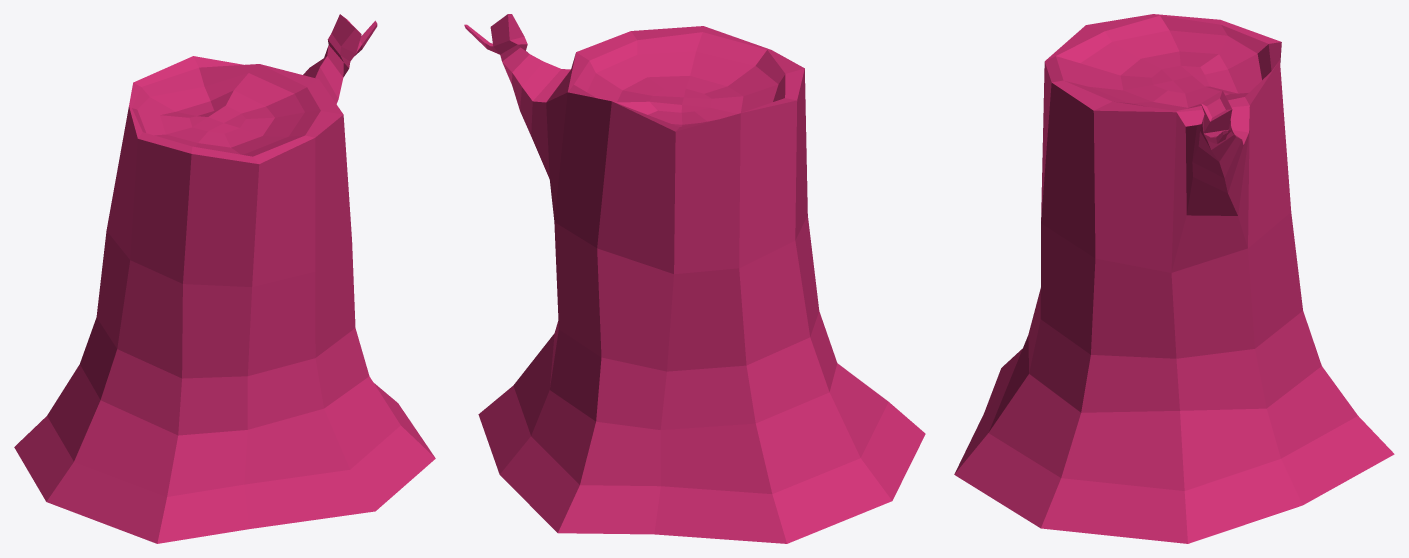
The model's file is stump_001.fbx.
The picture shows the model from 3 angles, left to right: view 1: azimuth 30°, elevation 25°; view 2: azimuth 150°, elevation 25°; view 3: azimuth 270°, elevation 25°; orthographic projection. The views are drawn at different scales.
Visible parts, largest first — view 1: stump_001; view 2: stump_001; view 3: stump_001.
Boxes of the visible parts, bbox=[...] form: stump_001: bbox=[14, 14, 435, 543]; stump_001: bbox=[464, 14, 925, 543]; stump_001: bbox=[954, 14, 1394, 543].
Size of the model in its own units: 553 by 561 by 521.
